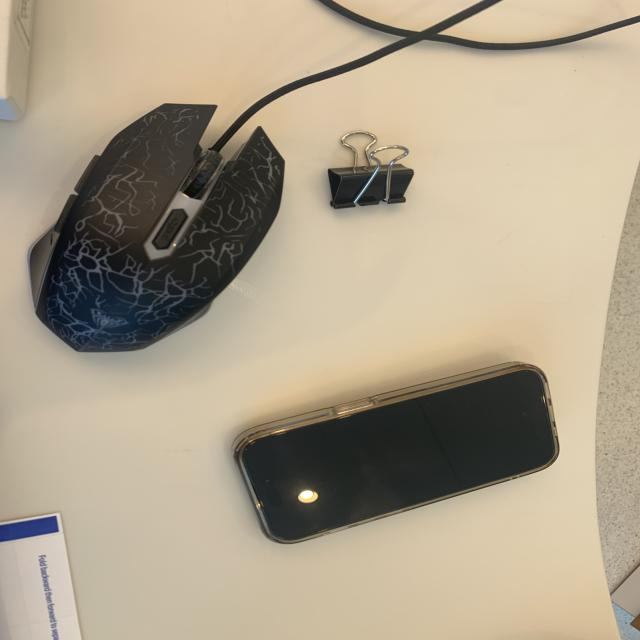Mouse: (24, 90, 289, 358)
